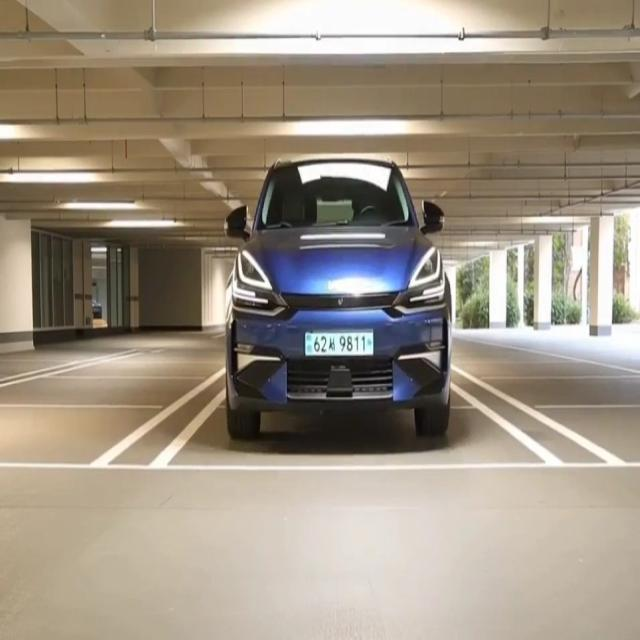car: (305, 329, 373, 359)
carev: (304, 330, 313, 357), (366, 334, 372, 354)
